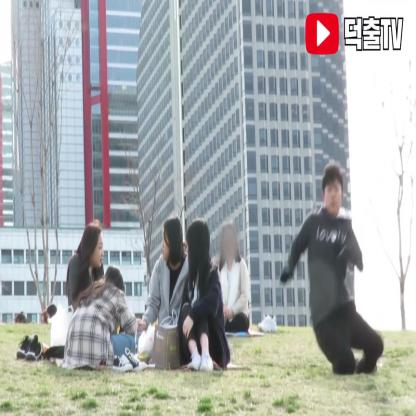Fall_Down: (280, 159, 385, 378)
